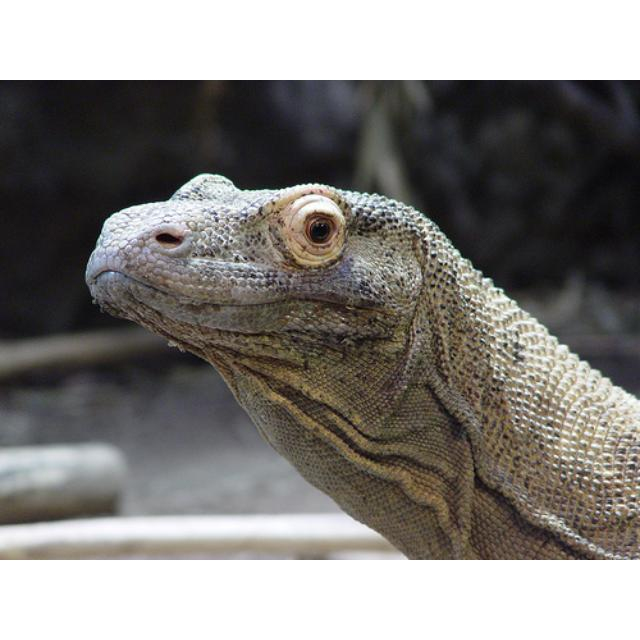KomodoDragon: (83, 169, 637, 558)
